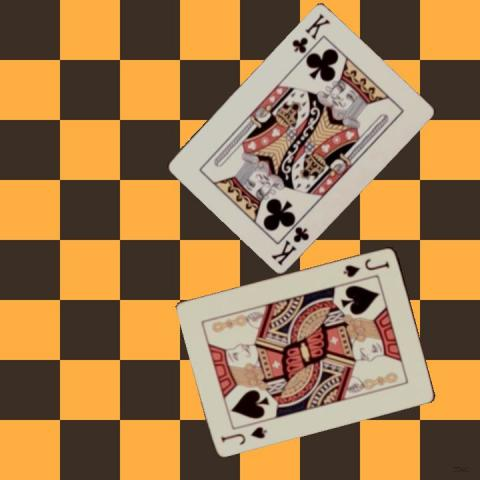Js: (340, 254, 391, 278), (218, 423, 269, 446)
Kc: (268, 222, 311, 266), (289, 10, 331, 54)
